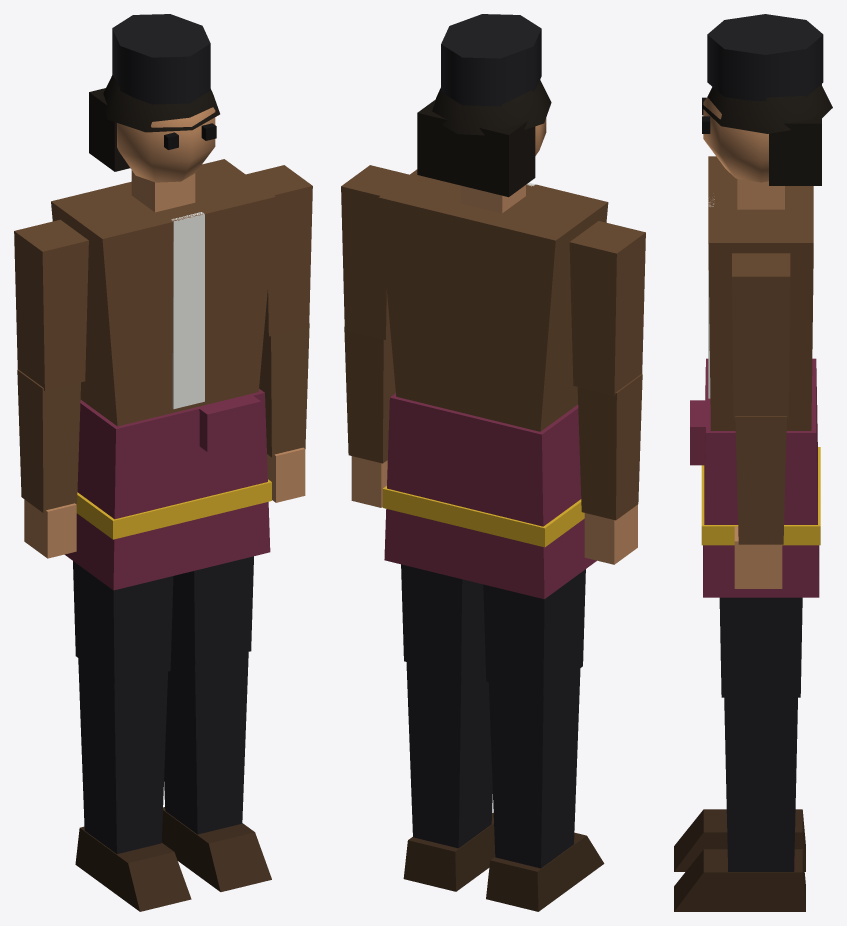
The model's file is aceng.glb.
The picture shows the model from 3 angles, left to right: view 1: azimuth 30°, elevation 25°; view 2: azimuth 150°, elevation 25°; view 3: azimuth 270°, elevation 25°; orthographic projection. The views are drawn at different scales.
Parts seen in each view (by area): view 1: torso, leg_r, leg_l, arm_r, head, arm_l; view 2: torso, leg_r, leg_l, arm_r, head, arm_l; view 3: torso, leg_l, head, arm_l, leg_r.
Boxes of the visible parts, x1,y1,x2,y2 form: torso: [51, 159, 275, 590]; leg_r: [73, 561, 191, 911]; leg_l: [161, 556, 271, 891]; arm_r: [14, 219, 88, 558]; head: [89, 14, 219, 182]; arm_l: [246, 165, 312, 502]; torso: [378, 169, 608, 599]; leg_r: [483, 569, 604, 911]; leg_l: [401, 564, 495, 891]; arm_r: [569, 221, 645, 564]; head: [417, 14, 551, 197]; arm_l: [341, 165, 408, 507]; torso: [690, 156, 820, 597]; leg_l: [674, 597, 805, 911]; head: [702, 14, 832, 185]; arm_l: [732, 253, 790, 588]; leg_r: [674, 809, 805, 871].
Size of the model in its own units: 0.6035 by 1.76 by 0.301.
